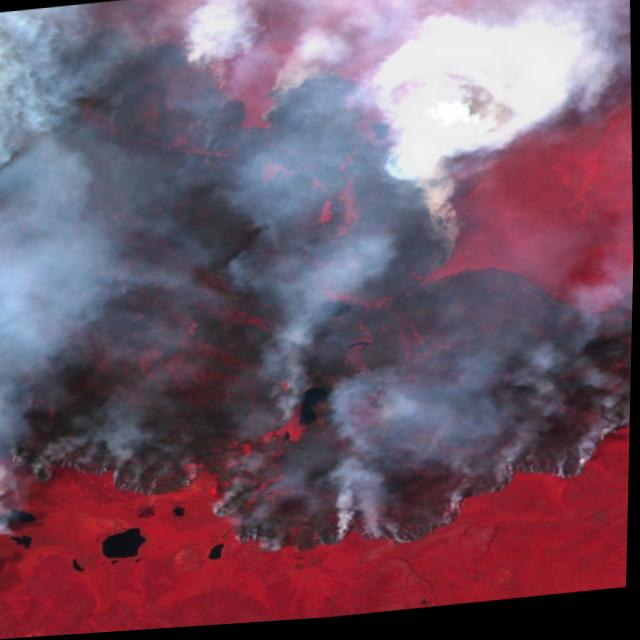fire: (21, 431, 192, 512), (478, 416, 632, 500), (190, 484, 309, 572), (344, 493, 473, 564), (415, 169, 470, 267), (247, 68, 309, 137), (172, 31, 230, 92)
